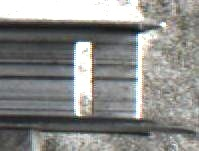40ngpress: (43, 17, 155, 134)
